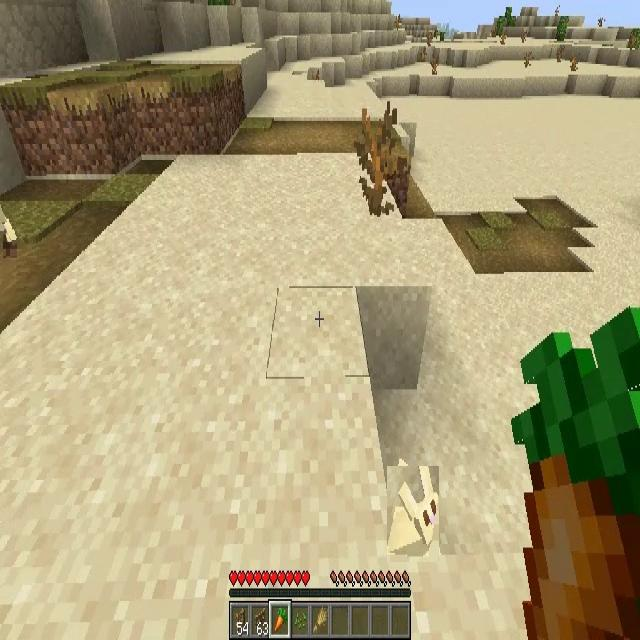rabbit: (387, 466, 439, 562)
